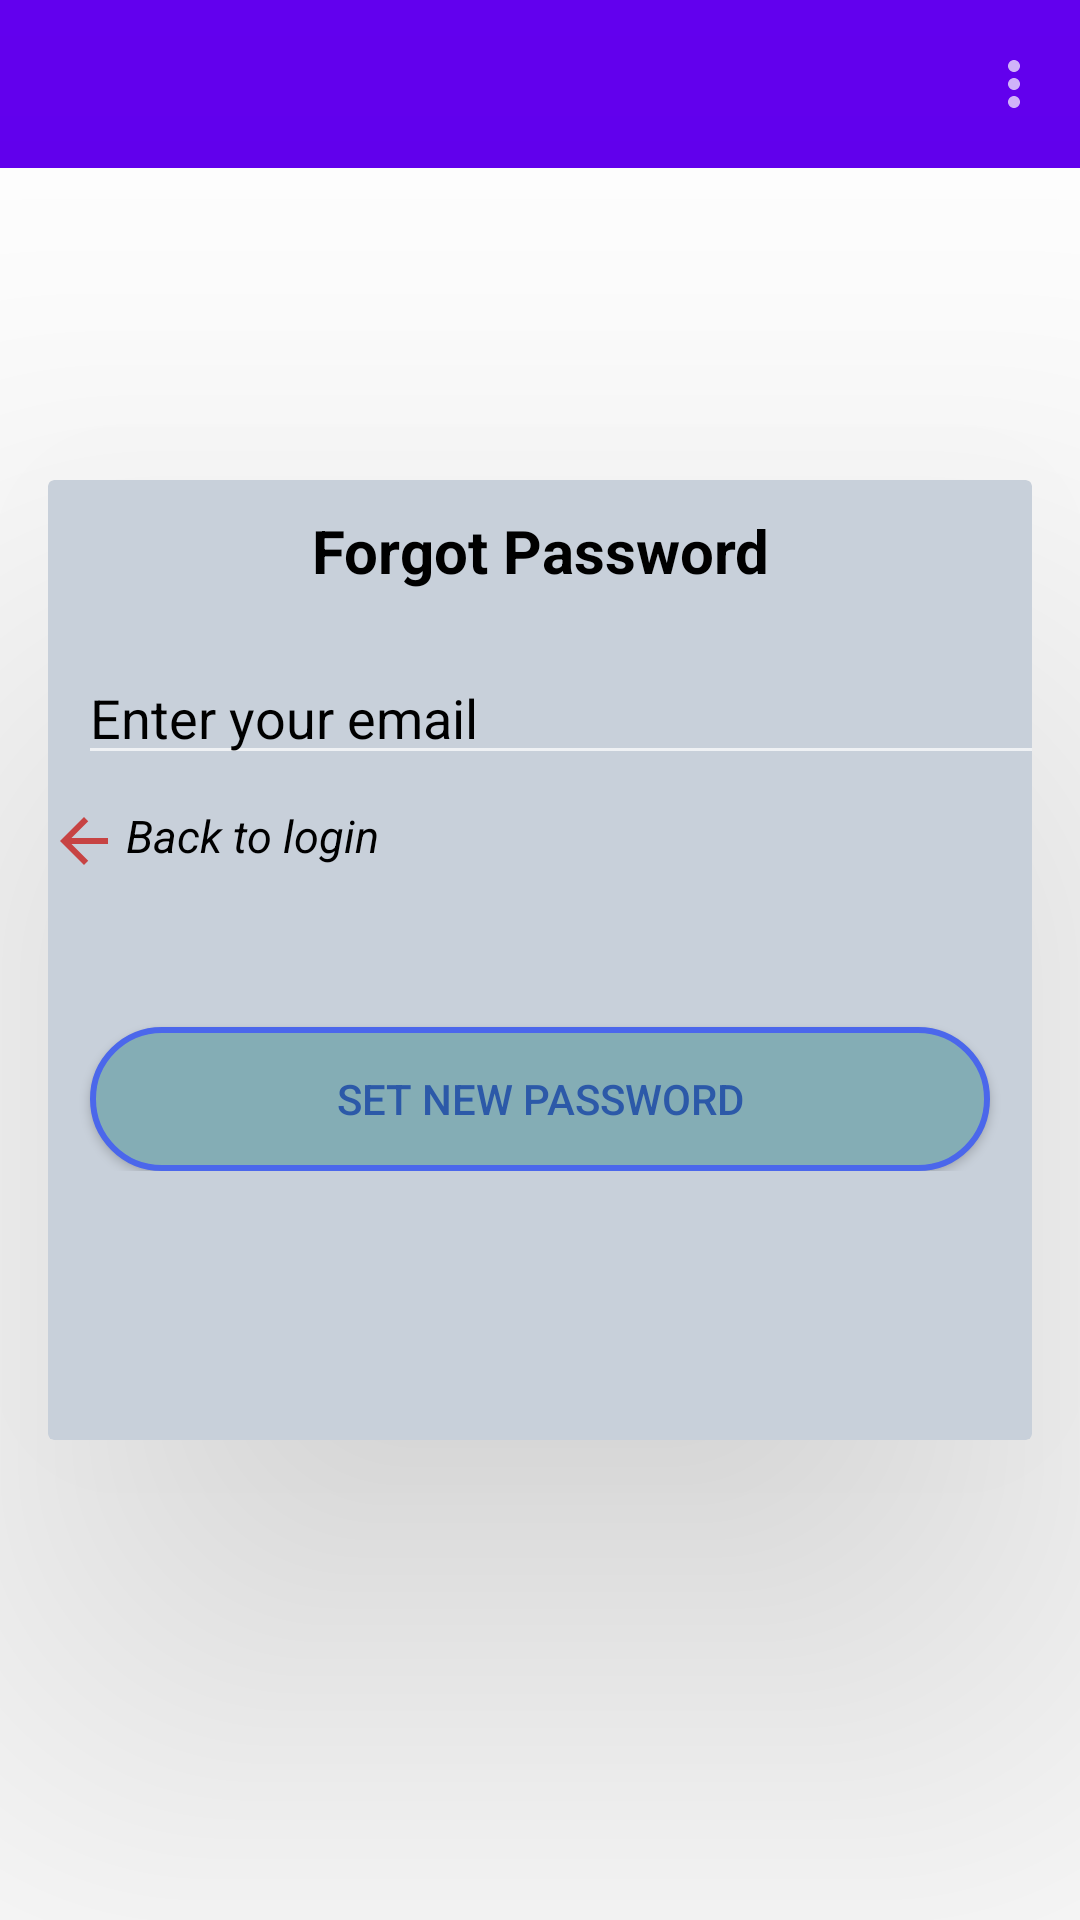

Point at icon controls on the screen. Image size 1080*1920, points as point (x, y).
arrow back: point (84, 841)
